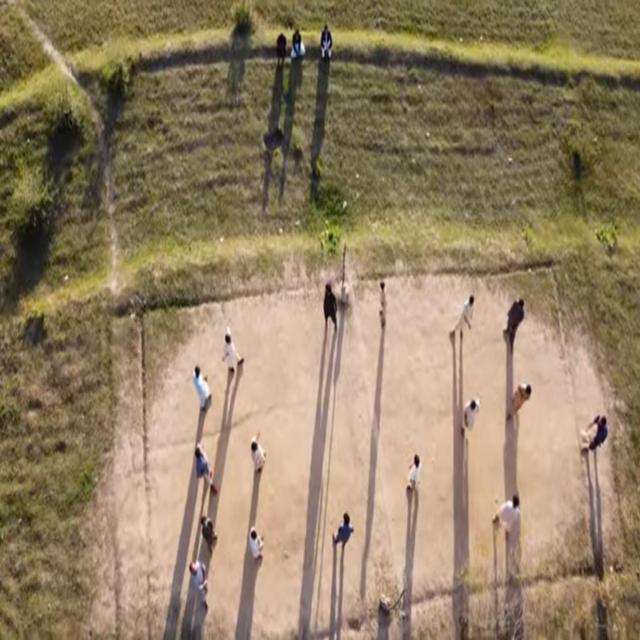humans: (578, 406, 612, 460), (491, 490, 523, 546), (506, 376, 538, 429), (449, 292, 478, 349), (187, 556, 212, 619), (219, 325, 247, 379), (504, 292, 527, 357), (193, 441, 218, 500), (192, 357, 212, 421), (329, 507, 354, 555), (459, 396, 484, 439), (196, 511, 220, 554), (320, 278, 338, 334), (248, 517, 266, 570), (403, 454, 424, 499), (249, 434, 269, 478), (289, 24, 307, 67), (317, 24, 335, 63), (270, 31, 288, 69), (377, 275, 388, 329)
